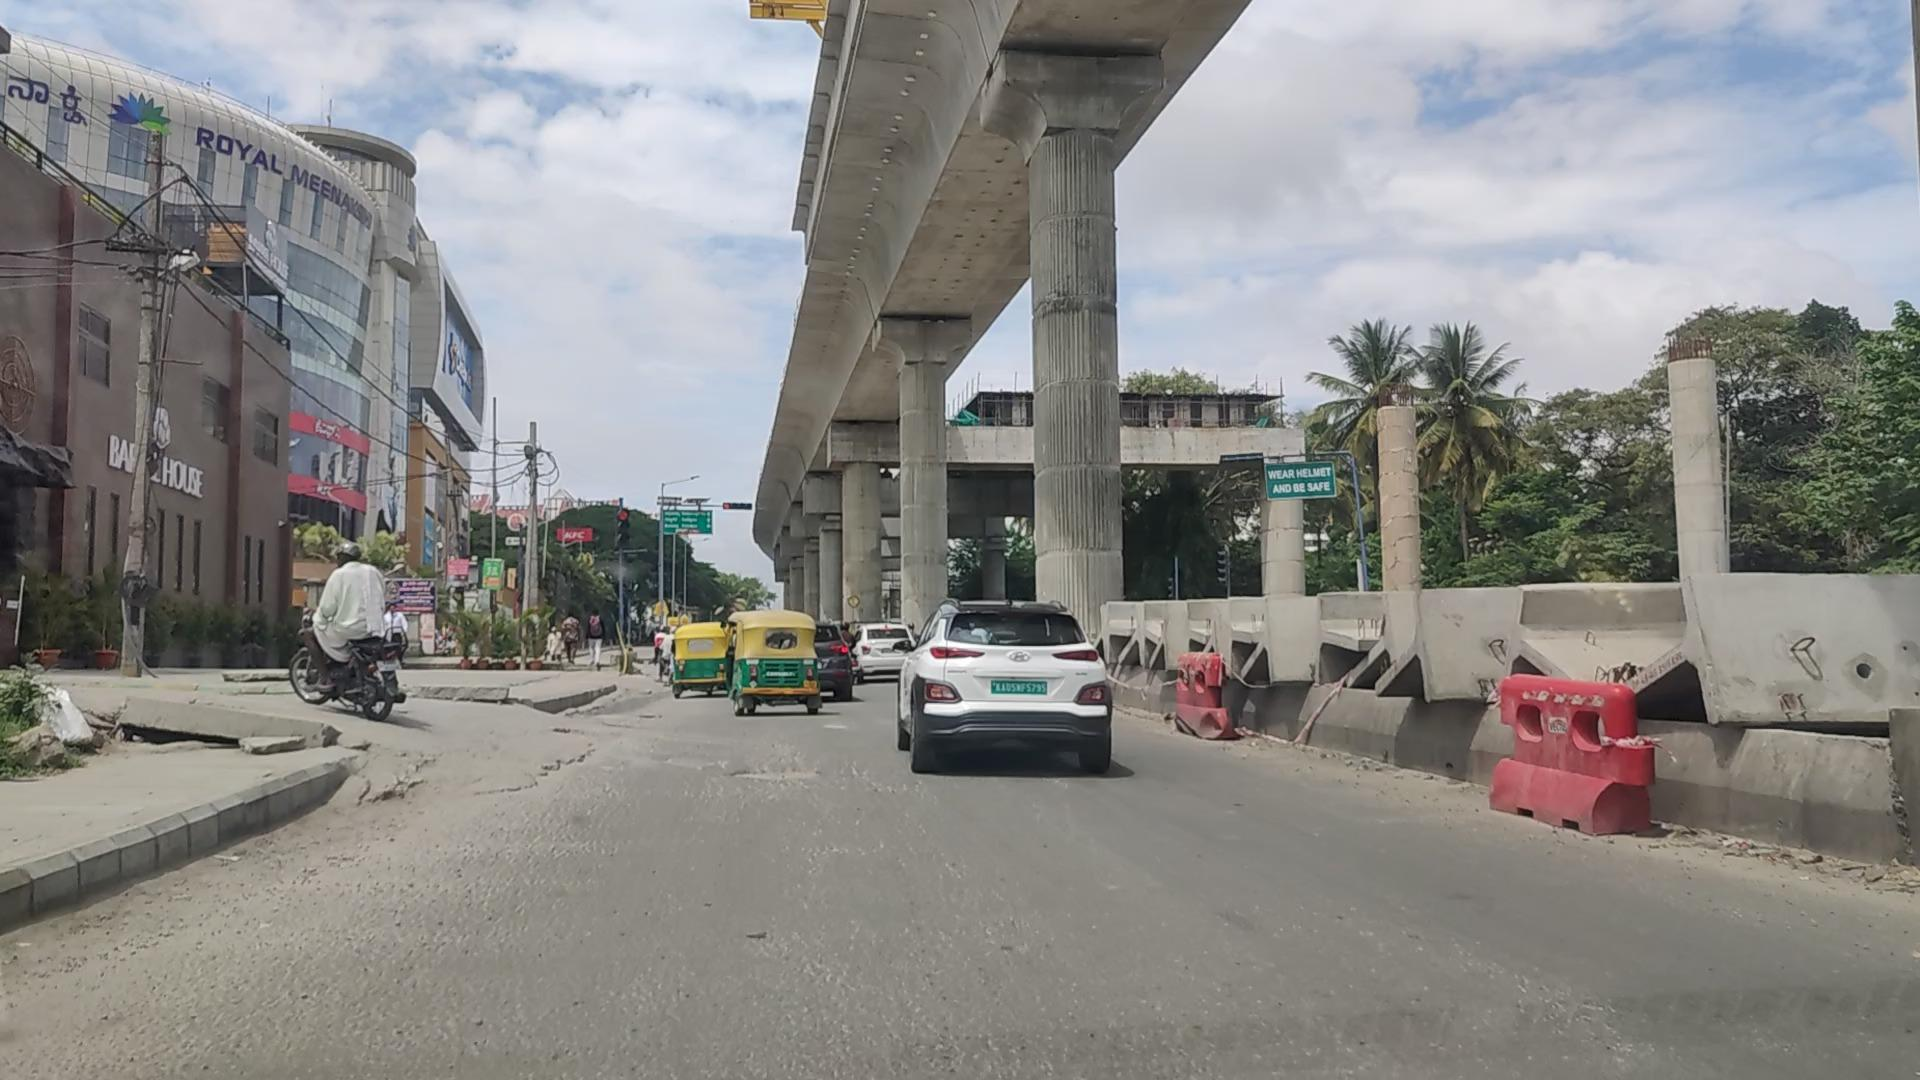LMV: (898, 597, 1110, 778), (311, 535, 394, 712), (729, 615, 819, 711)
RoadDamages: (729, 757, 825, 796)
